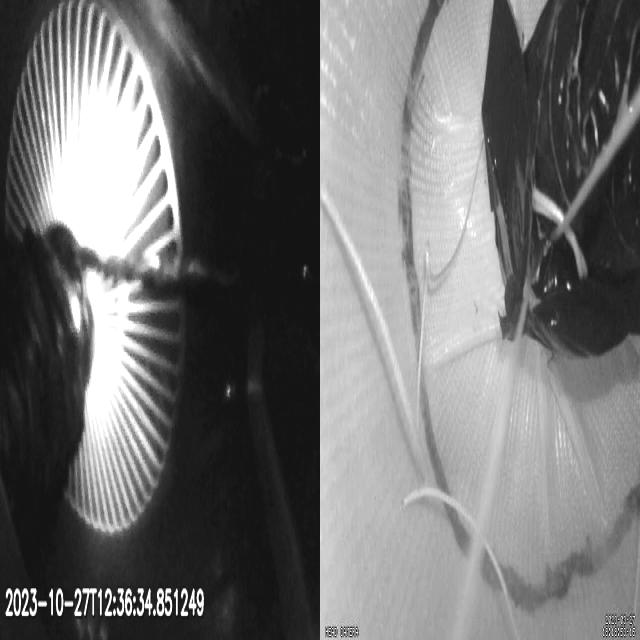red-circle: (398, 0, 640, 613)
